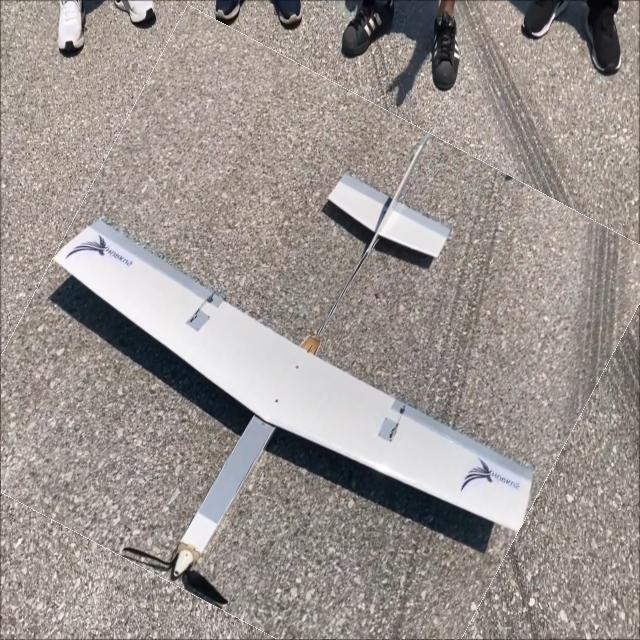iha: (49, 134, 540, 615)
